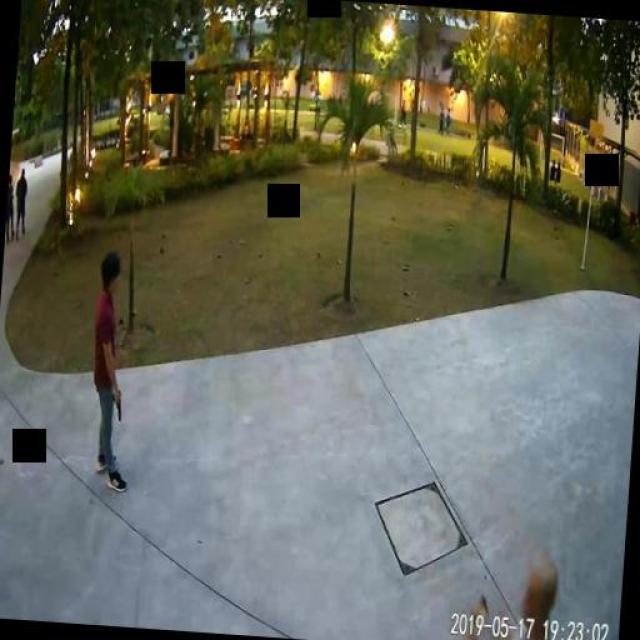gun: (109, 385, 121, 420)
